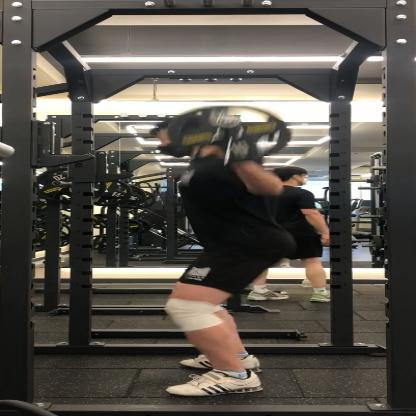Barbell: (149, 95, 298, 168)
